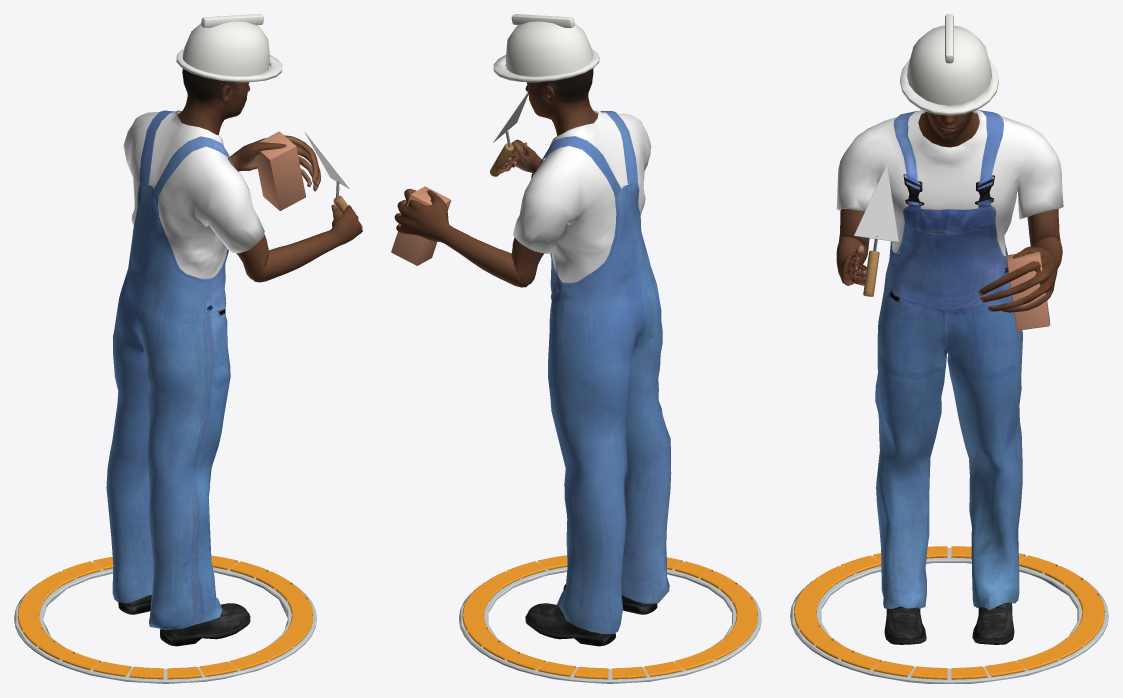
File: MDO-OBR-002_lod1.glb
3 renders of one model, left to right at view 1: azimuth 30°, elevation 25°; view 2: azimuth 150°, elevation 25°; view 3: azimuth 270°, elevation 25°, orthographic. The views are drawn at different scales.
Parts seen in each view (by area): view 1: MDO-OBR-002_pessoa_male_worksuit01, MDO-OBR-002_pessoa, MDO-OBR-002_capacete, MDO-OBR-002_anel_fundo, MDO-OBR-002_ferE_bloco, MDO-OBR-002_pessoa_shoes04, MDO-OBR-002_capacete_aba, MDO-OBR-002_capacete_friso; view 2: MDO-OBR-002_pessoa_male_worksuit01, MDO-OBR-002_pessoa, MDO-OBR-002_capacete, MDO-OBR-002_anel_fundo, MDO-OBR-002_pessoa_shoes04, MDO-OBR-002_ferE_bloco, MDO-OBR-002_capacete_aba, MDO-OBR-002_capacete_friso; view 3: MDO-OBR-002_pessoa_male_worksuit01, MDO-OBR-002_pessoa, MDO-OBR-002_capacete, MDO-OBR-002_anel_fundo, MDO-OBR-002_pessoa_shoes04, MDO-OBR-002_ferD_lamina, MDO-OBR-002_ferE_bloco, MDO-OBR-002_capacete_aba, MDO-OBR-002_ferD_cabo.
Part boxes in pixels (x1,y1,x2,y2): MDO-OBR-002_pessoa_male_worksuit01: (106,110,264,630); MDO-OBR-002_pessoa: (177,69,362,282); MDO-OBR-002_capacete: (182,16,269,76); MDO-OBR-002_anel_fundo: (14,562,316,683); MDO-OBR-002_ferE_bloco: (255,131,305,210); MDO-OBR-002_pessoa_shoes04: (118,595,250,646); MDO-OBR-002_capacete_aba: (176,49,282,82); MDO-OBR-002_capacete_friso: (201,14,264,28); MDO-OBR-002_pessoa_male_worksuit01: (513,110,671,634); MDO-OBR-002_pessoa: (394,68,598,287); MDO-OBR-002_capacete: (505,16,592,76); MDO-OBR-002_anel_fundo: (459,562,761,683); MDO-OBR-002_pessoa_shoes04: (525,584,657,646); MDO-OBR-002_ferE_bloco: (391,186,451,265); MDO-OBR-002_capacete_aba: (493,49,599,82); MDO-OBR-002_capacete_friso: (511,14,574,28); MDO-OBR-002_pessoa_male_worksuit01: (836,110,1063,609); MDO-OBR-002_pessoa: (836,111,1062,312); MDO-OBR-002_capacete: (907,25,991,105); MDO-OBR-002_anel_fundo: (790,548,1108,683); MDO-OBR-002_pessoa_shoes04: (884,602,1014,644); MDO-OBR-002_ferD_lamina: (854,165,898,242); MDO-OBR-002_ferE_bloco: (1006,251,1050,330); MDO-OBR-002_capacete_aba: (900,59,998,115); MDO-OBR-002_ferD_cabo: (863,250,879,296).
Bounding box in the file's own units: 0.9959 × 1.82 × 0.84.
Materials: 12 (6 with a texture image).
